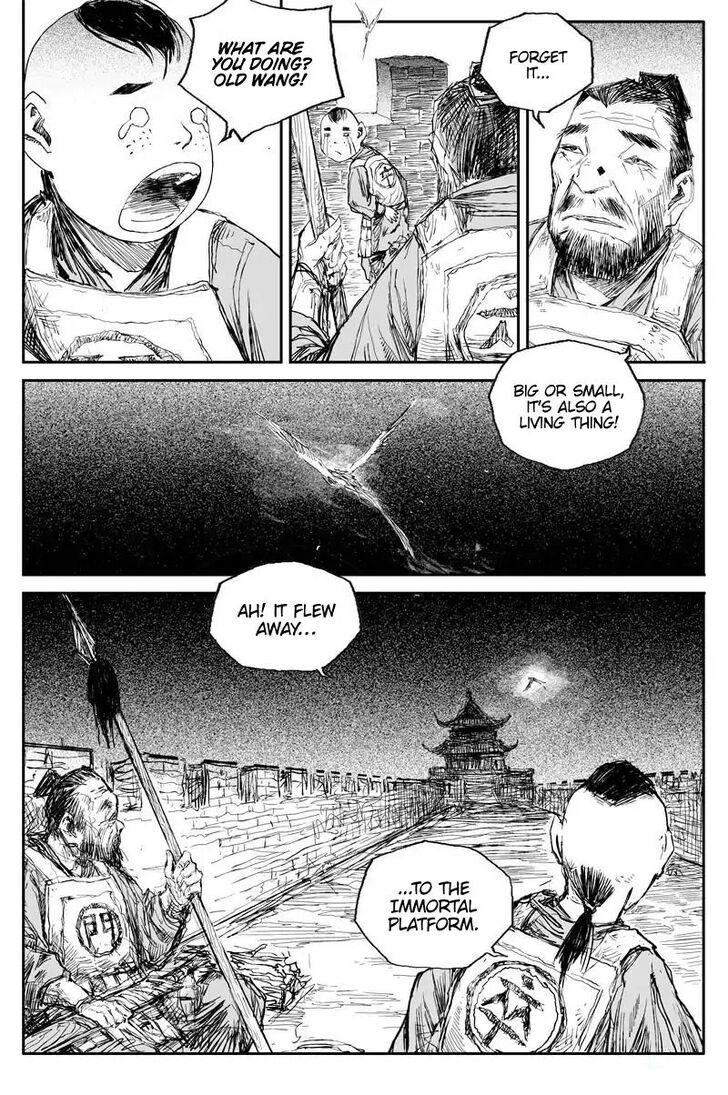Bubble: (177, 0, 346, 146), (487, 338, 647, 472), (354, 839, 515, 970), (208, 560, 362, 675), (478, 11, 595, 117)
